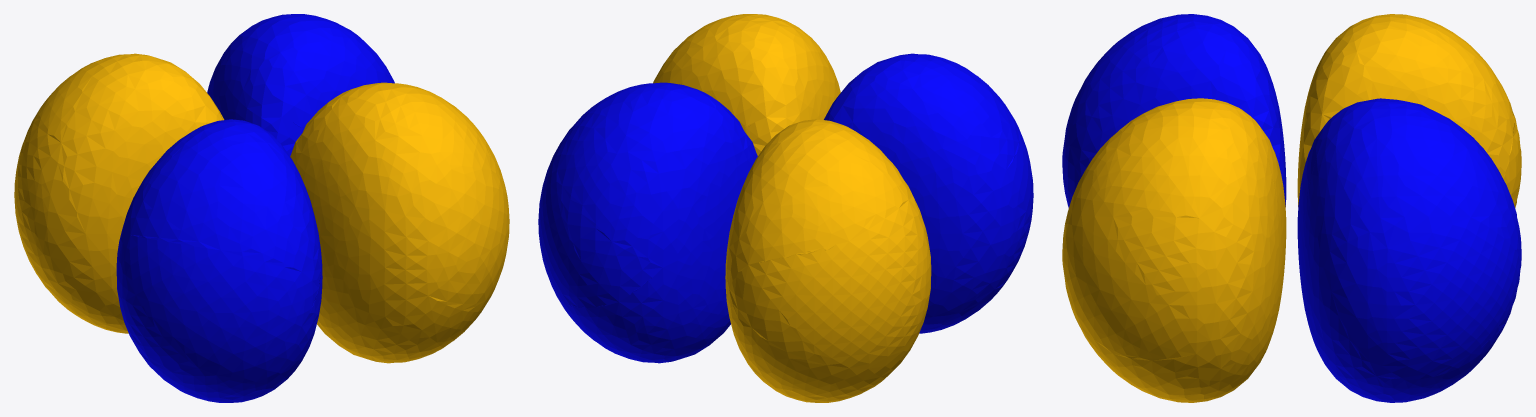
3 views of the same model, side by side, from view 1: azimuth 30°, elevation 25°; view 2: azimuth 150°, elevation 25°; view 3: azimuth 270°, elevation 25° (orthographic). The views are drawn at different scales.
Size of the model in its own units: 16.06 by 11.09 by 16.06.
